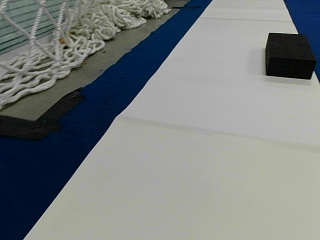block: (264, 31, 315, 79)
